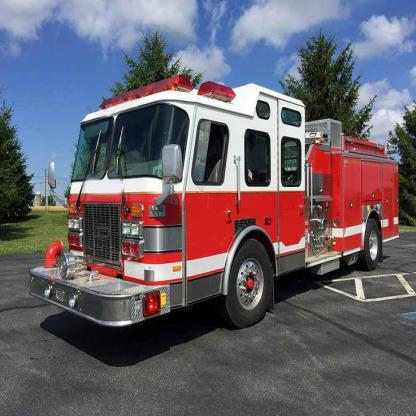fire-truck: (30, 59, 416, 416)
